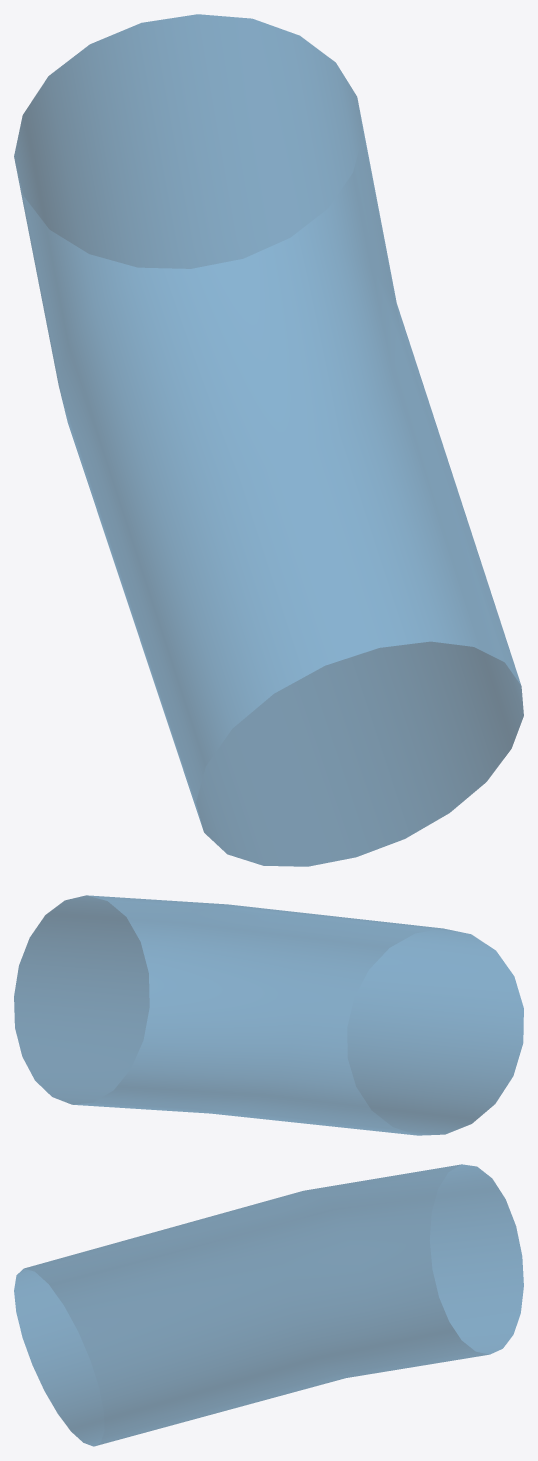
The model's file is lacI_holder.glb.
3 renders of one model, top to bottom at view 1: azimuth 30°, elevation 25°; view 2: azimuth 150°, elevation 25°; view 3: azimuth 270°, elevation 25°, orthographic. The views are drawn at different scales.
Parts seen in each view (by area): view 1: lacI; view 2: lacI; view 3: lacI.
Part boxes in pixels (left/top/right/bottom): lacI: left=14, top=14, right=523, bottom=866; lacI: left=14, top=895, right=523, bottom=1135; lacI: left=14, top=1164, right=523, bottom=1446.
Size of the model in its own units: 0.1556 by 0.1702 by 0.2512.
Materials: 1 (1 with a texture image).
